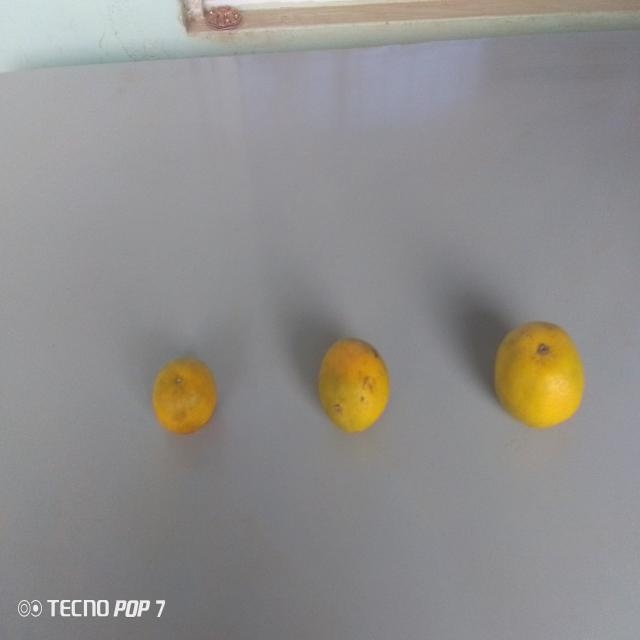agrume: (489, 319, 587, 429), (314, 335, 394, 443), (151, 353, 217, 442)
